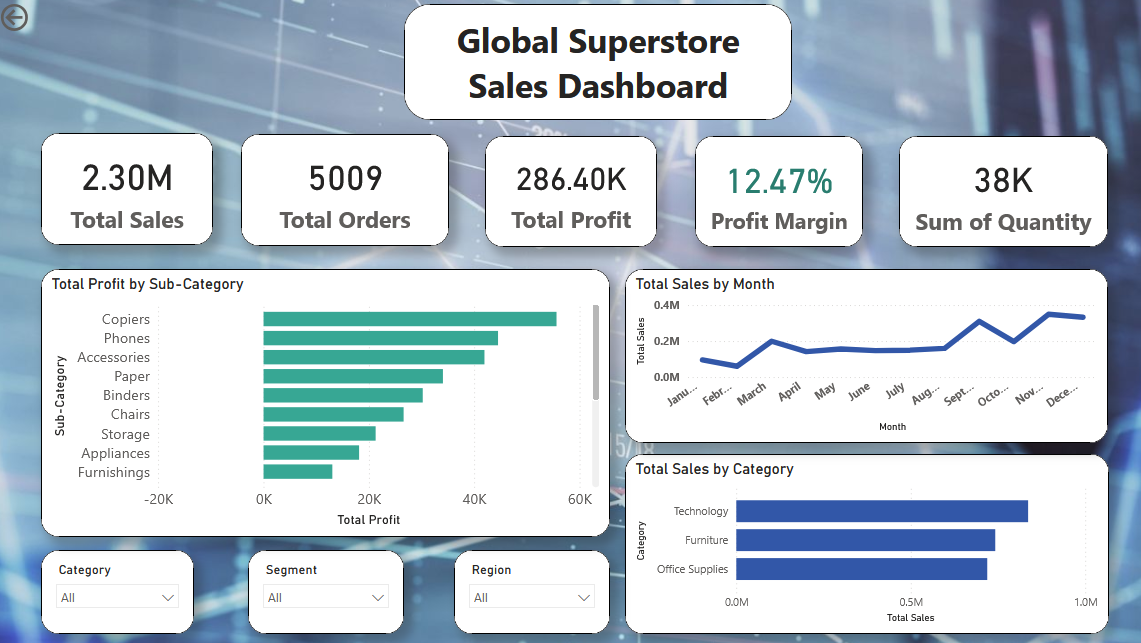

The page's visual inventory and layout, read from the dashboard file:
{"tool":"powerbi","page":{"name":"Page 1","canvas":[1280,720],"ordinal":0},"visuals":[{"type":"card","fields":{"Values":["Sum(Global_Superstore2.Sales)"]},"box":[49.6,148.7,191,125.4],"z":0},{"type":"card","fields":{"Values":["Sum(Global_Superstore2.Profit)"]},"box":[543.8,151.6,191,123.9],"z":1000},{"type":"card","fields":{"Values":["Count(Global_Superstore2.Order ID)"]},"box":[271.2,150.2,231.8,123.9],"z":2000},{"type":"card","fields":{"Values":["Sum(Global_Superstore2.Quantity)"]},"box":[1003,151.6,231.8,123.9],"z":3000},{"type":"clusteredBarChart","fields":{"Y":["Sum(Global_Superstore2.Sales)"],"Category":["Global_Superstore2.Category"]},"box":[697.8,505.6,537.8,200],"z":4000},{"type":"lineChart","fields":{"Y":["Sum(Global_Superstore2.Sales)"],"Category":["Global_Superstore2.Order Date.Variation.Date Hierarchy.Month"]},"box":[697.8,300,536.7,193.3],"z":5000},{"type":"actionButton","box":[0,0,100,40],"z":6000},{"type":"slicer","fields":{"Values":["Global_Superstore2.Segment"]},"box":[280,612.2,173.3,93.3],"z":7000},{"type":"slicer","fields":{"Values":["Global_Superstore2.Region"]},"box":[508.9,612.2,173.3,93.3],"z":8000},{"type":"slicer","fields":{"Values":["Global_Superstore2.Category"]},"box":[50,612.2,170,93.3],"z":9000},{"type":"textbox","box":[454,5.6,431.4,129.7],"z":10000},{"type":"card","fields":{"Values":["Global_Superstore2.Profit Margin"]},"box":[777,151.6,186.6,123.9],"z":11001},{"type":"clusteredBarChart","fields":{"Category":["Global_Superstore2.Sub-Category"],"Y":["Sum(Global_Superstore2.Profit)"]},"box":[50,300,632.2,297.8],"z":11002}]}

Visuals, with their boxes in screenshot pixels (x1, y1, x2, y2), scaled from the page's 1280x720 canvas onto the 1141x643 screenshot:
card - Sum(Global_Superstore2.Sales): (x1=44, y1=133, x2=214, y2=245)
card - Sum(Global_Superstore2.Profit): (x1=485, y1=135, x2=655, y2=246)
card - Count(Global_Superstore2.Order ID): (x1=242, y1=134, x2=448, y2=245)
card - Sum(Global_Superstore2.Quantity): (x1=894, y1=135, x2=1101, y2=246)
clusteredBarChart - Sum(Global_Superstore2.Sales) x Global_Superstore2.Category: (x1=622, y1=452, x2=1101, y2=630)
lineChart - Sum(Global_Superstore2.Sales) x Global_Superstore2.Order Date.Variation.Date Hierarchy.Month: (x1=622, y1=268, x2=1100, y2=441)
actionButton: (x1=0, y1=0, x2=89, y2=36)
slicer - Global_Superstore2.Segment: (x1=250, y1=547, x2=404, y2=630)
slicer - Global_Superstore2.Region: (x1=454, y1=547, x2=608, y2=630)
slicer - Global_Superstore2.Category: (x1=45, y1=547, x2=196, y2=630)
textbox: (x1=405, y1=5, x2=789, y2=121)
card - Global_Superstore2.Profit Margin: (x1=693, y1=135, x2=859, y2=246)
clusteredBarChart - Global_Superstore2.Sub-Category x Sum(Global_Superstore2.Profit): (x1=45, y1=268, x2=608, y2=534)
